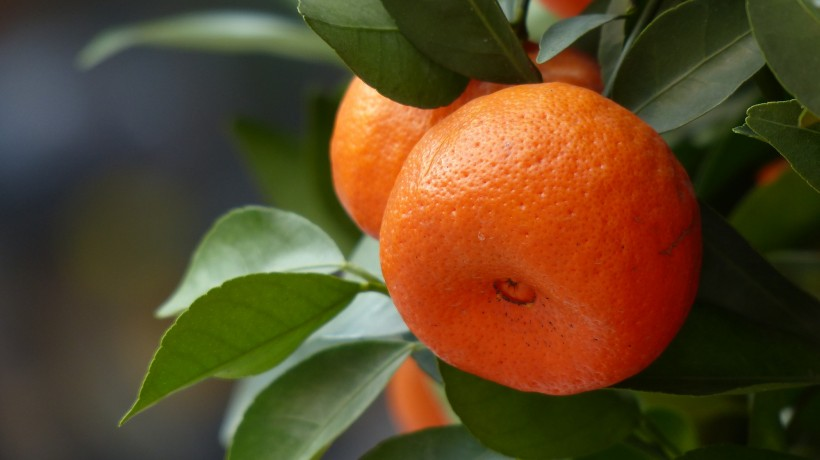orange: (378, 79, 700, 393), (330, 35, 608, 253)
